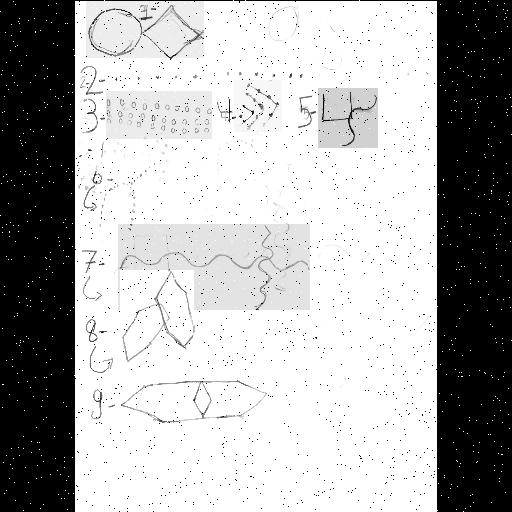shape-1: (86, 0, 204, 58), (310, 10, 344, 70)
shape-2: (112, 68, 306, 82)
shape-3: (106, 91, 212, 139)
shape-4: (234, 80, 282, 132)
shape-5: (318, 88, 378, 148)
shape-6: (97, 158, 155, 234)
shape-7: (118, 224, 310, 310)
shape-8: (120, 270, 194, 362)
shape-9: (118, 376, 268, 426)
